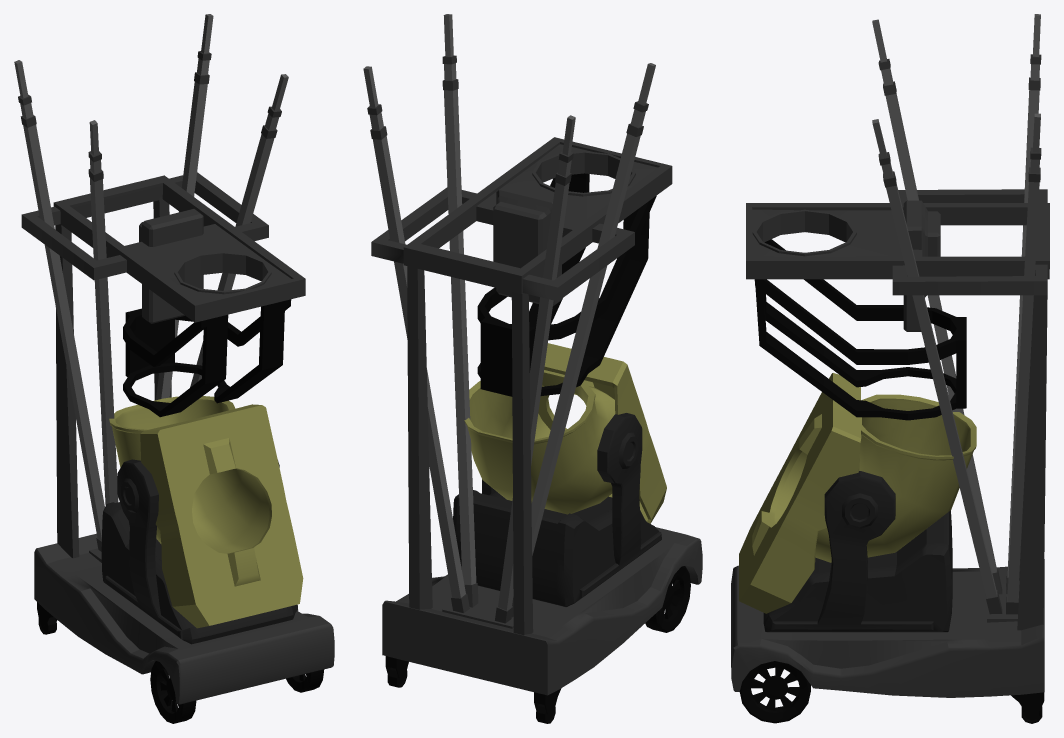
Rendered from Lanzapelotas3000.fbx.
The picture shows the model from 3 angles, left to right: view 1: azimuth 30°, elevation 25°; view 2: azimuth 150°, elevation 25°; view 3: azimuth 270°, elevation 25°; orthographic projection. The views are drawn at different scales.
Parts seen in each view (by area): view 1: Trapero, Base, BaseSup, BaseInf, Metebalon, Agarradera, Palo, Palo1, Pila, Palo3, Palo2, Agarradera1 (+2 smaller); view 2: Base, BaseInf, Trapero, BaseSup, Agarradera, Agarradera1, Metebalon, Palo2, Palo1, Palo3, Palo, Pila (+4 smaller); view 3: Trapero, Base, BaseInf, BaseSup, Metebalon, Agarradera1, Palo2, Palo3, Palo1, Lanta1, Palo, Pila (+2 smaller).
Boxes of the visible parts, left/top/right/bottom form: Trapero: left=109, top=396, right=303, bottom=628; Base: left=34, top=533, right=334, bottom=704; BaseSup: left=53, top=175, right=305, bottom=322; BaseInf: left=101, top=459, right=298, bottom=644; Metebalon: left=123, top=299, right=291, bottom=417; Agarradera: left=21, top=206, right=126, bottom=558; Palo: left=14, top=60, right=104, bottom=551; Palo1: left=88, top=120, right=118, bottom=505; Pila: left=139, top=209, right=203, bottom=323; Palo3: left=156, top=14, right=213, bottom=400; Palo2: left=190, top=74, right=288, bottom=404; Agarradera1: left=153, top=172, right=268, bottom=400; Base: left=382, top=527, right=702, bottom=695; BaseInf: left=453, top=413, right=661, bottom=606; Trapero: left=464, top=343, right=666, bottom=523; BaseSup: left=403, top=137, right=672, bottom=293; Agarradera: left=511, top=223, right=634, bottom=635; Agarradera1: left=371, top=187, right=476, bottom=609; Metebalon: left=477, top=173, right=656, bottom=396; Palo2: left=442, top=14, right=478, bottom=607; Palo1: left=512, top=63, right=655, bottom=617; Palo3: left=363, top=66, right=469, bottom=613; Palo: left=495, top=115, right=575, bottom=623; Pila: left=493, top=184, right=561, bottom=306; Trapero: left=739, top=373, right=976, bottom=613; Base: left=731, top=559, right=1044, bottom=697; BaseInf: left=763, top=471, right=952, bottom=632; BaseSup: left=746, top=203, right=1049, bottom=279; Metebalon: left=754, top=239, right=966, bottom=420; Agarradera1: left=892, top=264, right=1047, bottom=630; Palo2: left=872, top=119, right=1002, bottom=614; Palo3: left=1006, top=113, right=1041, bottom=614; Palo1: left=872, top=19, right=1002, bottom=594; Lanta1: left=739, top=661, right=810, bottom=723; Palo: left=1006, top=14, right=1041, bottom=593; Pila: left=903, top=200, right=940, bottom=331.
Bounding box in the file's own units: 19.95 × 56.06 × 26.06.
